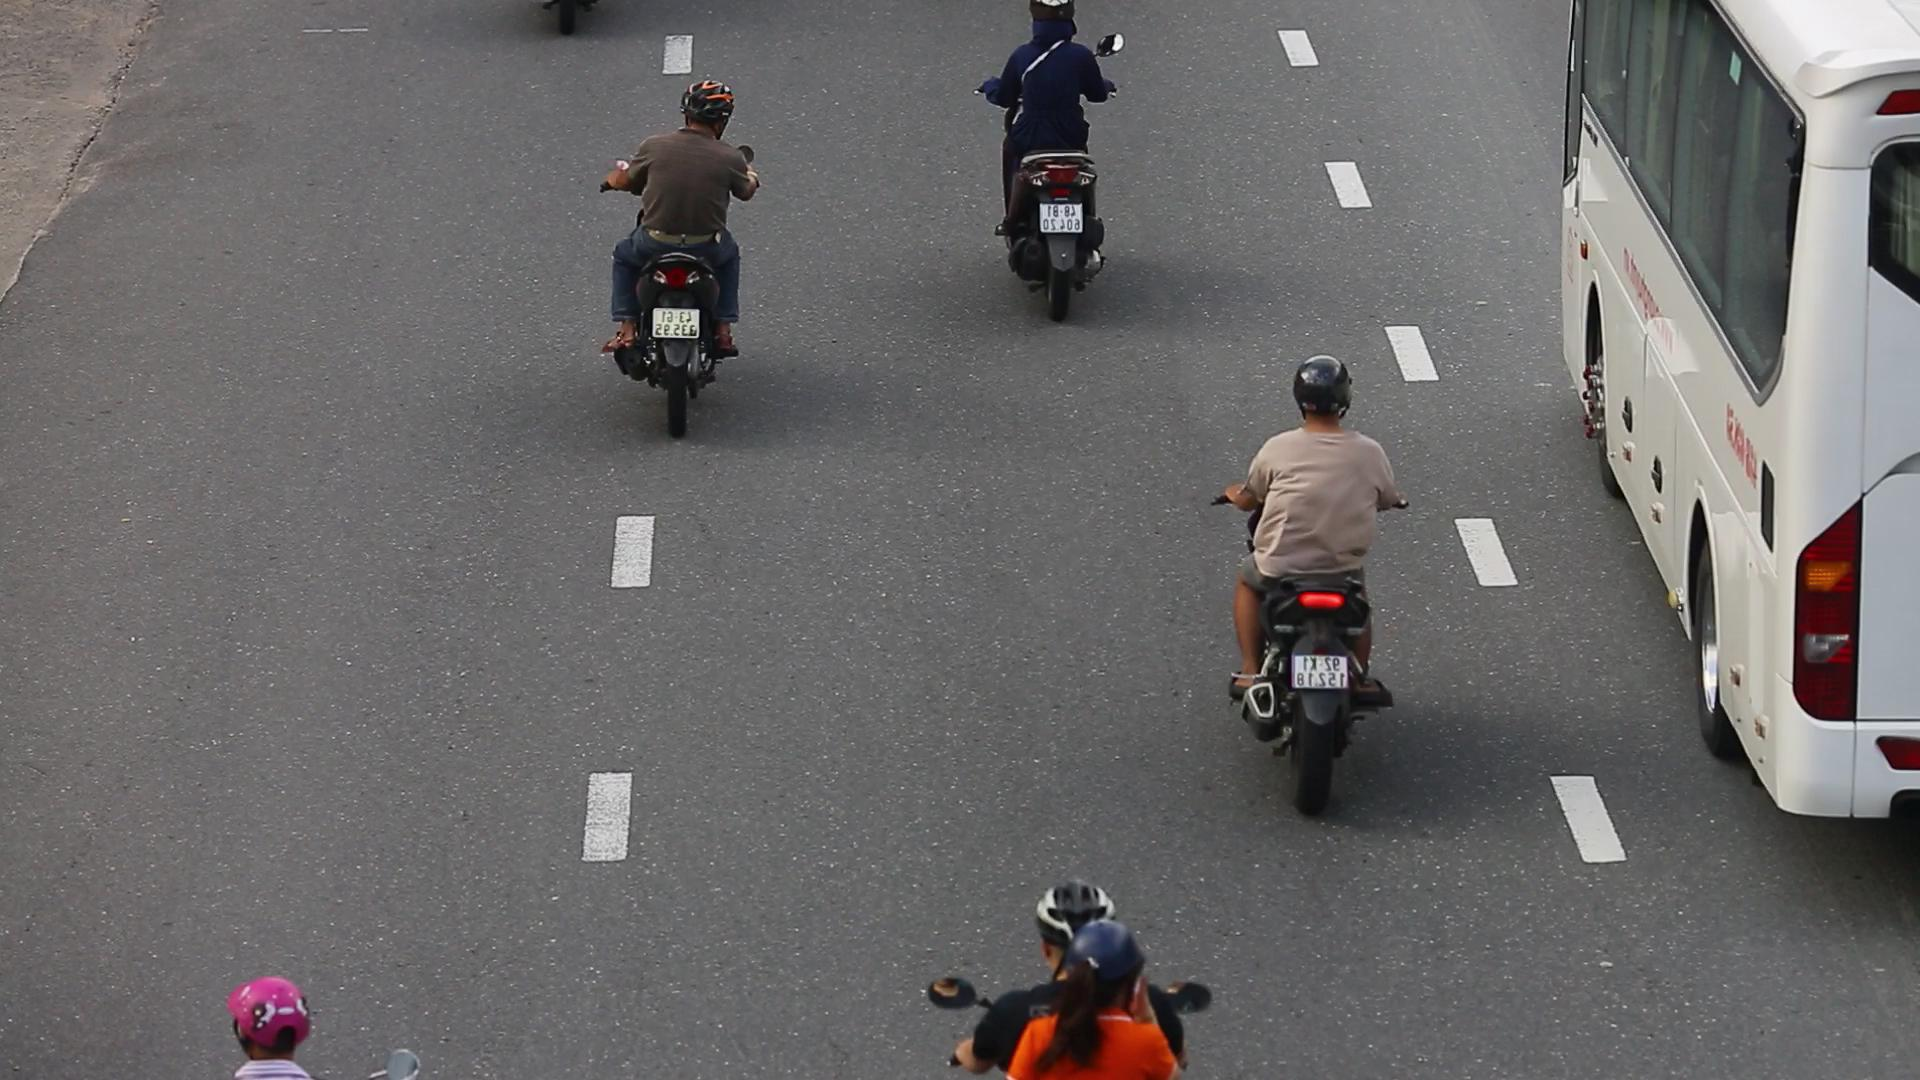motobike: (1204, 356, 1407, 827), (591, 73, 760, 440), (975, 0, 1131, 322)
